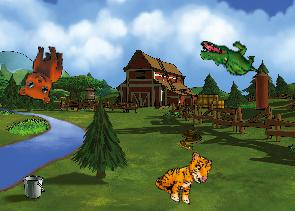bear: (17, 42, 64, 104)
crocodile: (199, 39, 259, 76)
tiger: (151, 142, 216, 210)
